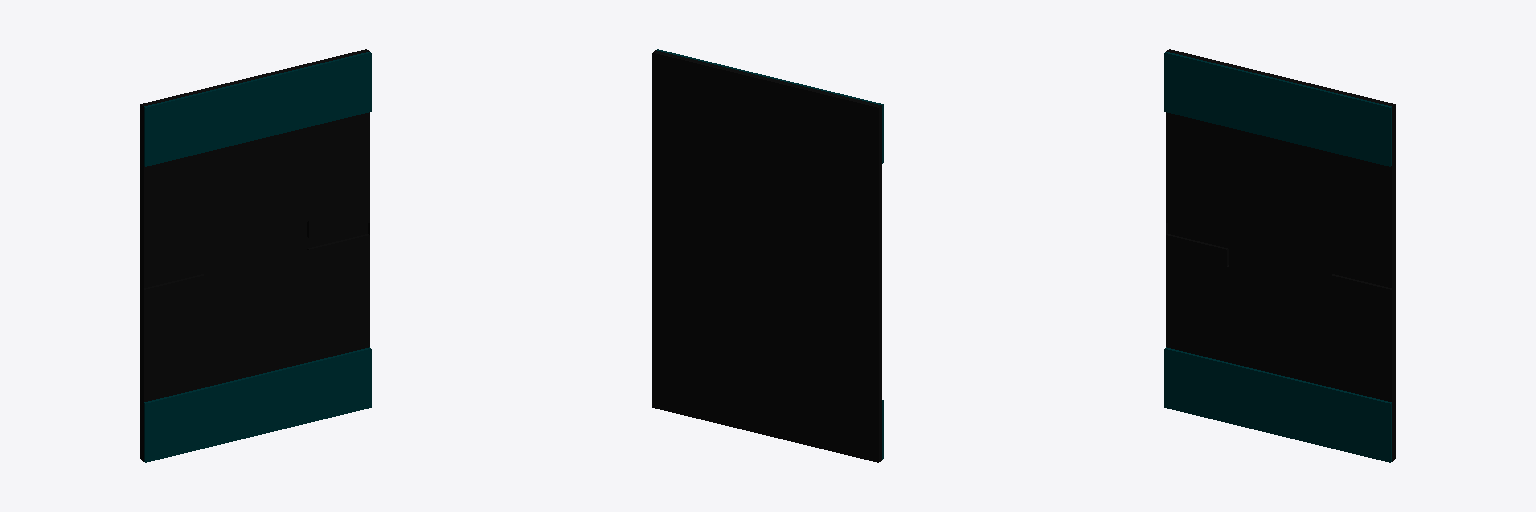
The model's file is SciFiWall2.obj.
3 views of the same model, side by side, from view 1: azimuth 30°, elevation 25°; view 2: azimuth 150°, elevation 25°; view 3: azimuth 330°, elevation 25° (orthographic).
Visible parts, largest first — view 1: Wall, Wall_Panel2, Wall_Panel; view 2: Wall; view 3: Wall, Wall_Panel2, Wall_Panel.
Boxes of the visible parts, box(x1,y1,x2,y2) form: Wall: box(140, 49, 369, 461); Wall_Panel2: box(144, 347, 371, 462); Wall_Panel: box(144, 52, 371, 166); Wall: box(652, 50, 881, 462); Wall: box(1166, 49, 1395, 461); Wall_Panel2: box(1164, 347, 1391, 462); Wall_Panel: box(1164, 52, 1391, 166).
Size of the model in its own units: 4 by 6 by 0.15.